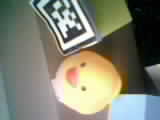duck: (50, 47, 112, 104)
